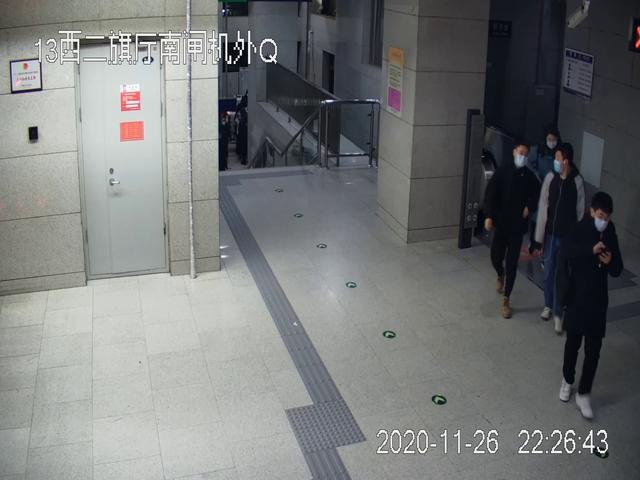person: (559, 191, 625, 419), (478, 136, 538, 319), (534, 143, 588, 331)
